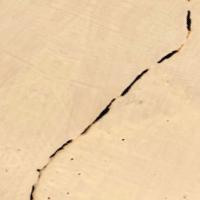crack: (28, 7, 195, 199)
